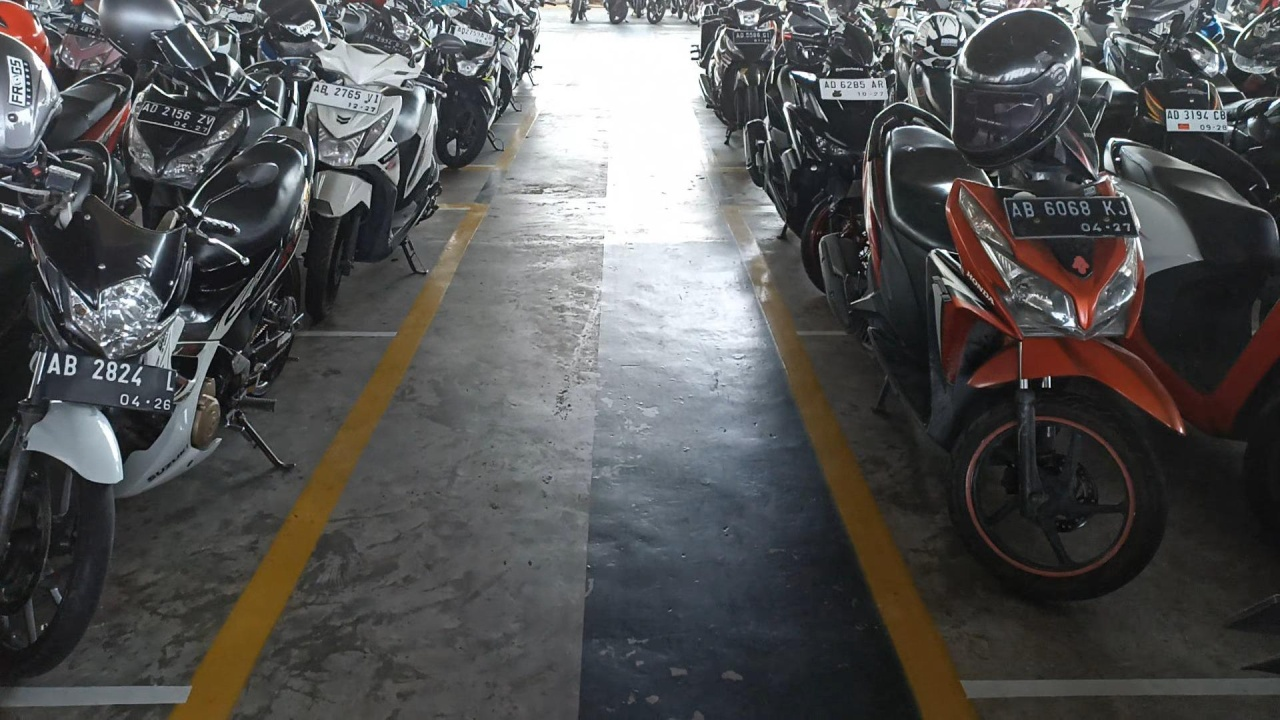plate: (38, 348, 176, 414), (1003, 197, 1139, 240), (136, 101, 216, 136), (307, 81, 383, 115), (820, 77, 888, 99), (1166, 109, 1228, 132)
